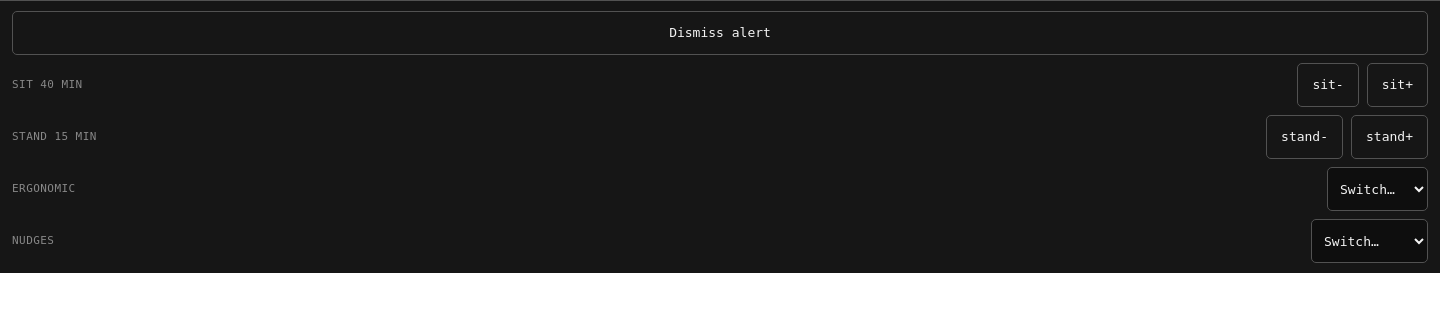
Test case: RemoteControls › shows the desk's message when a command fails
This screenshot has width=1440, height=318.
Click the button with test id "rc-ack" at {"x": 720, "y": 33}, box x1=12 y1=11 x2=1428 y2=55
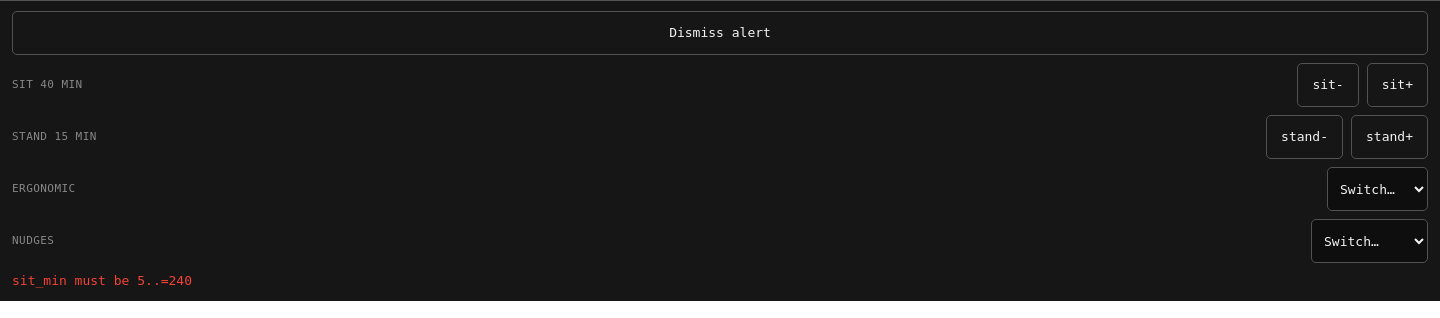
Check: the message with test id "rc-error" reads "sit_min must be 5..=240", box x1=12 y1=273 x2=192 y2=288
